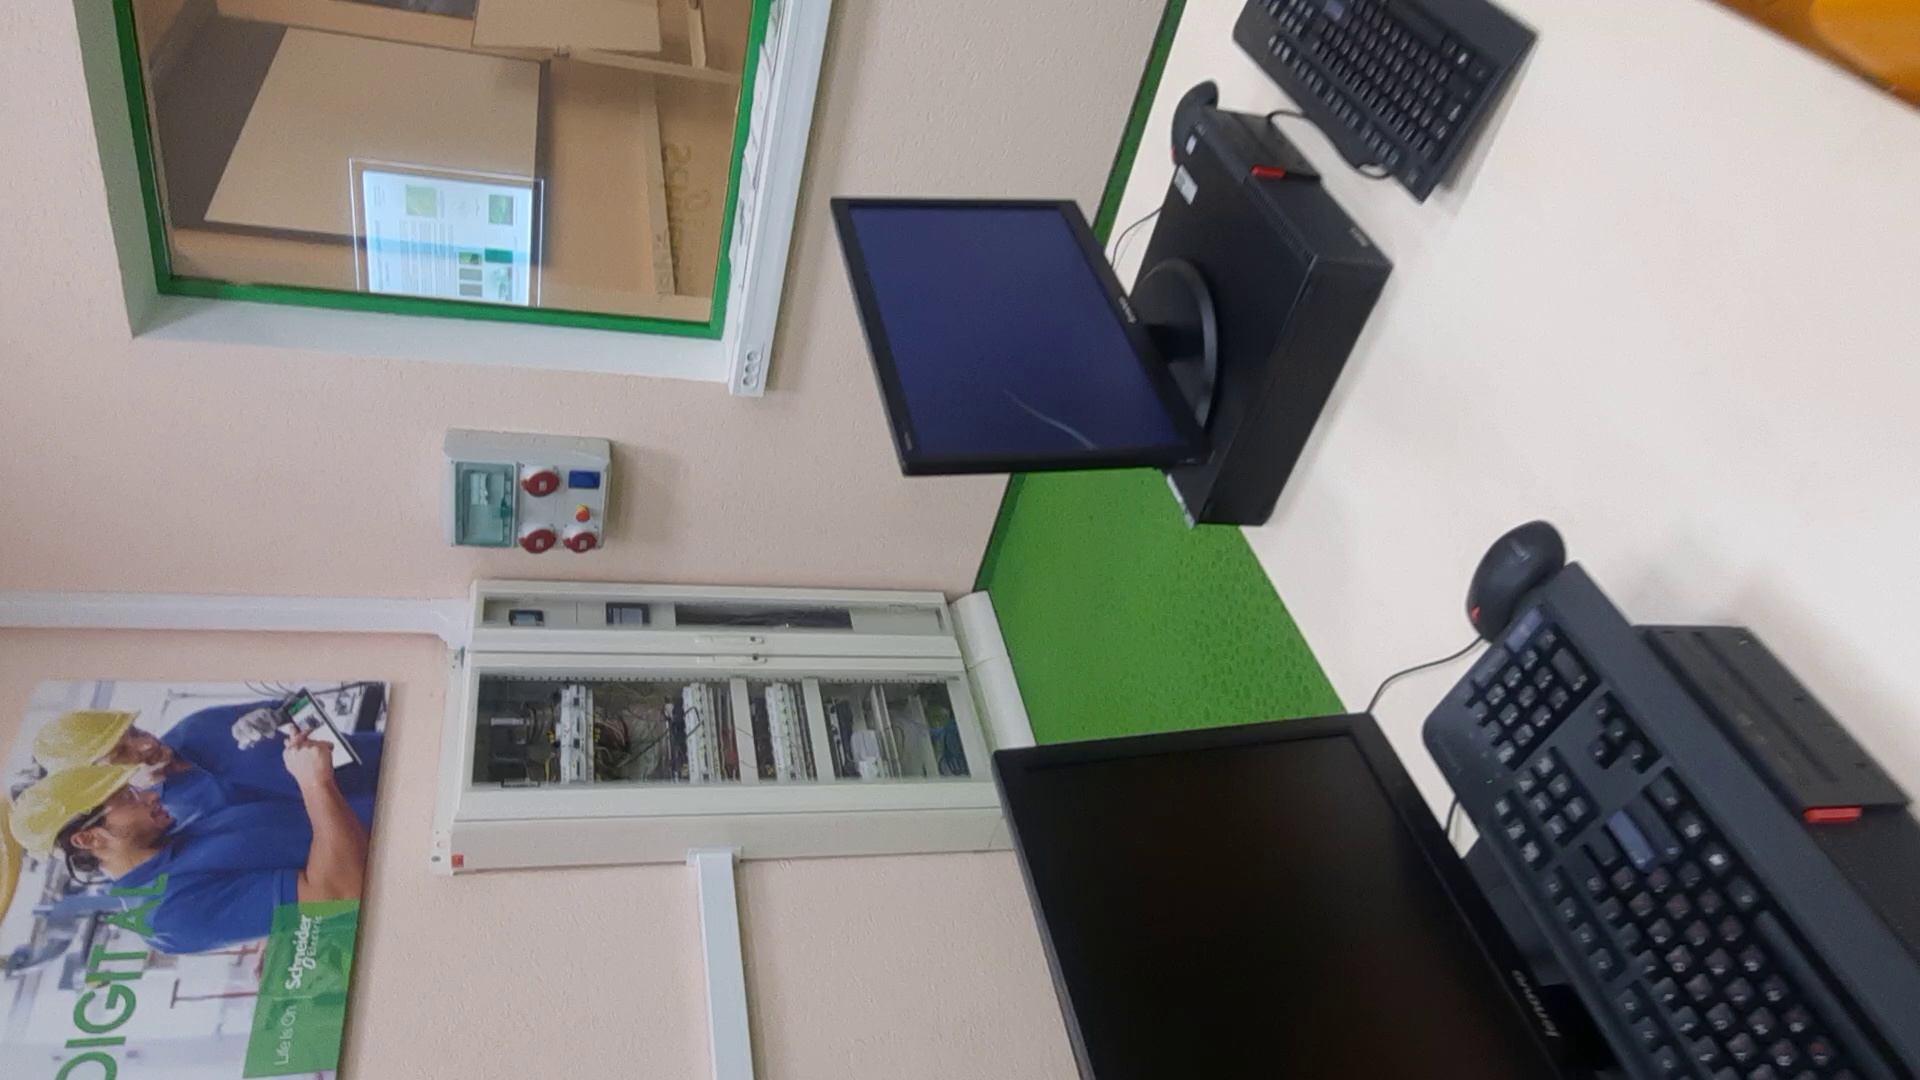stand1: (433, 566, 1040, 874)
